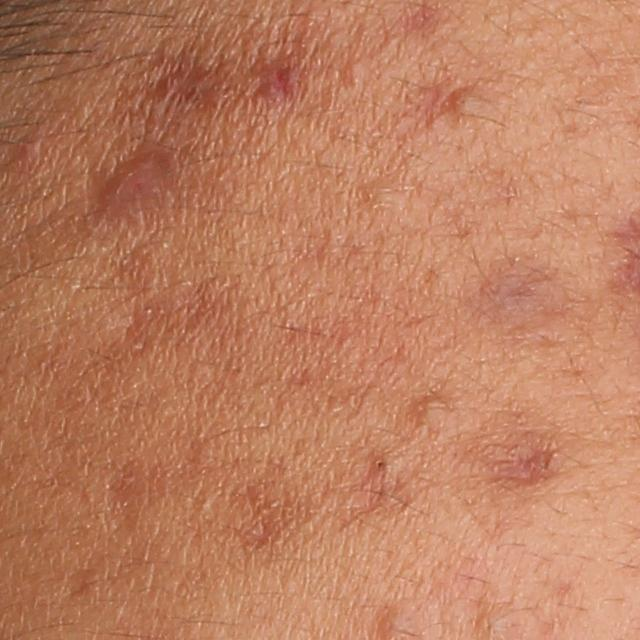atrophic_scar: (106, 230, 248, 370), (466, 430, 567, 489), (227, 480, 287, 555)
comedo: (414, 395, 454, 435), (479, 607, 506, 638), (341, 57, 369, 86), (368, 452, 391, 474)
papule: (95, 159, 160, 215)
